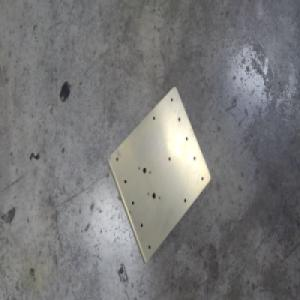MetalSheet: (106, 84, 212, 266)
